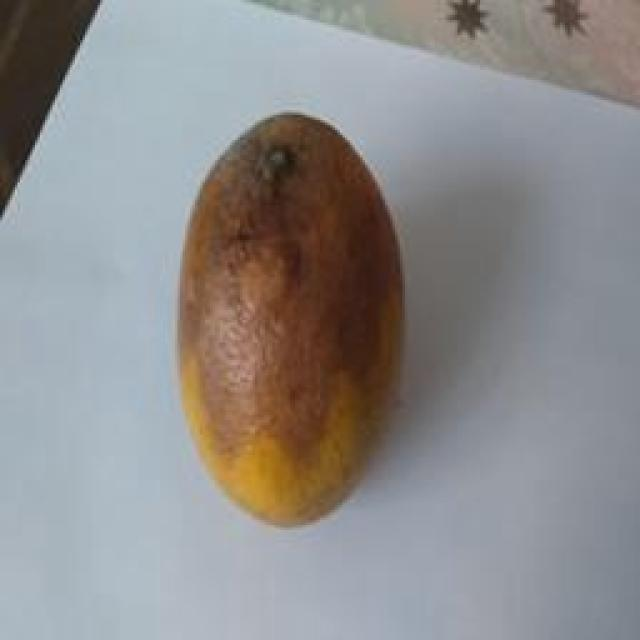Rotten_Orange: (163, 106, 420, 552)
